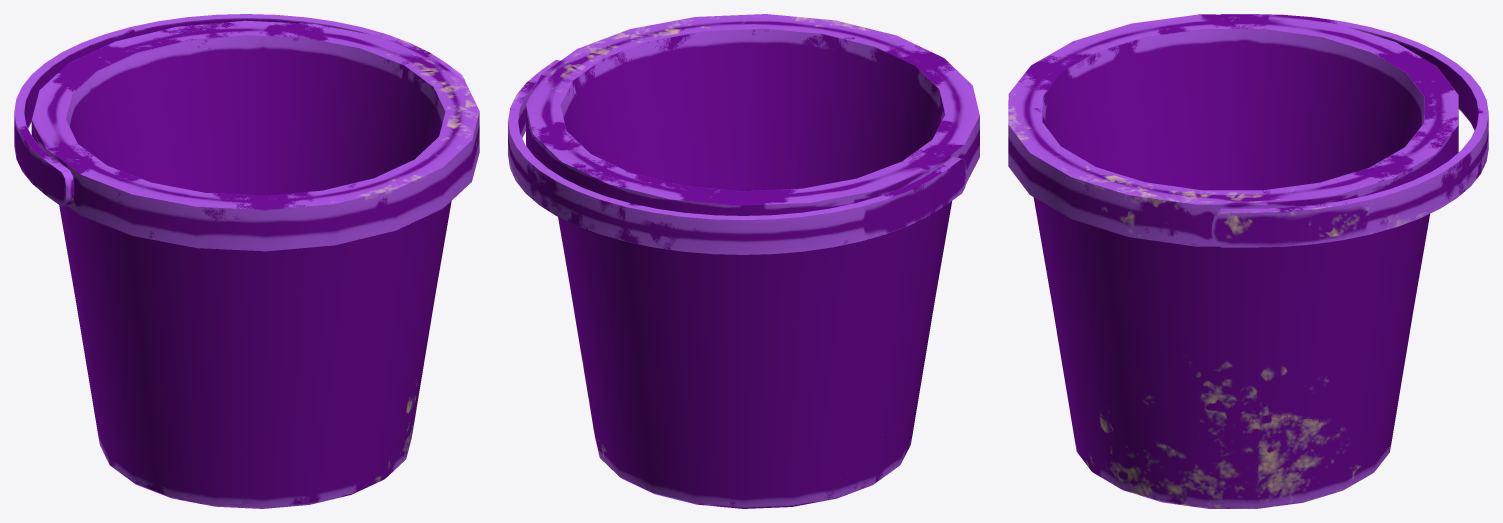
File: Bucket.fbx
3 renders of one model, left to right at view 1: azimuth 30°, elevation 25°; view 2: azimuth 150°, elevation 25°; view 3: azimuth 270°, elevation 25°, orthographic.
Visible parts, largest first — view 1: Bucket_low; view 2: Bucket_low; view 3: Bucket_low.
Part boxes in pixels (bbox=[...]): Bucket_low: bbox=[14, 14, 479, 508]; Bucket_low: bbox=[508, 14, 979, 508]; Bucket_low: bbox=[1008, 14, 1488, 508].
Bounding box in the file's own units: 60.2 × 47.49 × 61.51.
1 material, 1 textured.
